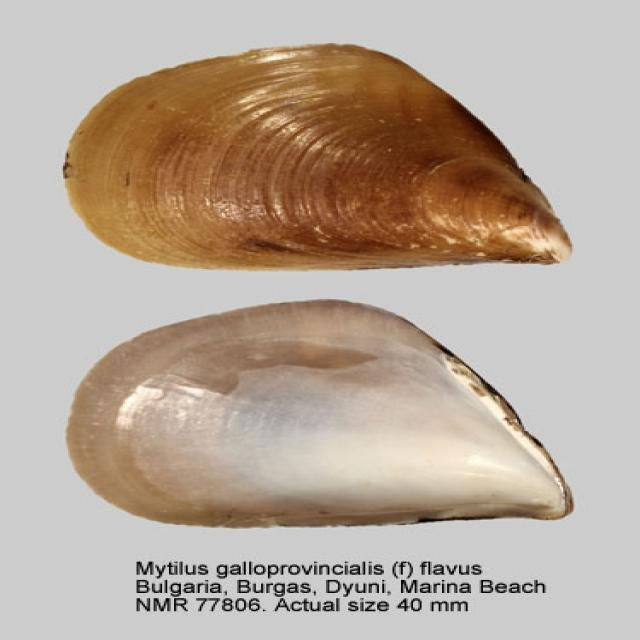Mytilus_galloprovincialis: (68, 298, 574, 530), (61, 45, 572, 271)
